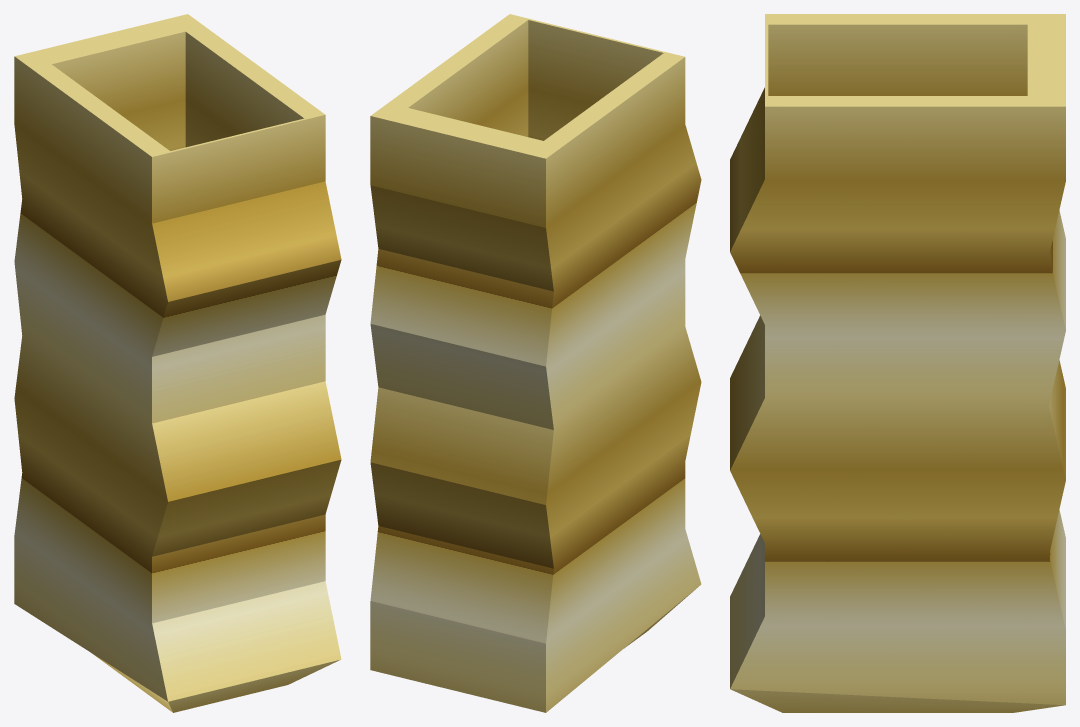
The model's file is ClipMag.glb.
3 renders of one model, left to right at view 1: azimuth 30°, elevation 25°; view 2: azimuth 150°, elevation 25°; view 3: azimuth 270°, elevation 25°, orthographic. The views are drawn at different scales.
Parts seen in each view (by area): view 1: Cube; view 2: Cube; view 3: Cube.
Boxes of the visible parts, bbox=[...] form: Cube: bbox=[14, 14, 341, 712]; Cube: bbox=[370, 14, 701, 712]; Cube: bbox=[730, 14, 1065, 712].
Bounding box in the file's own units: 0.6477 × 2.03 × 0.9937.
1 material, 1 textured.
